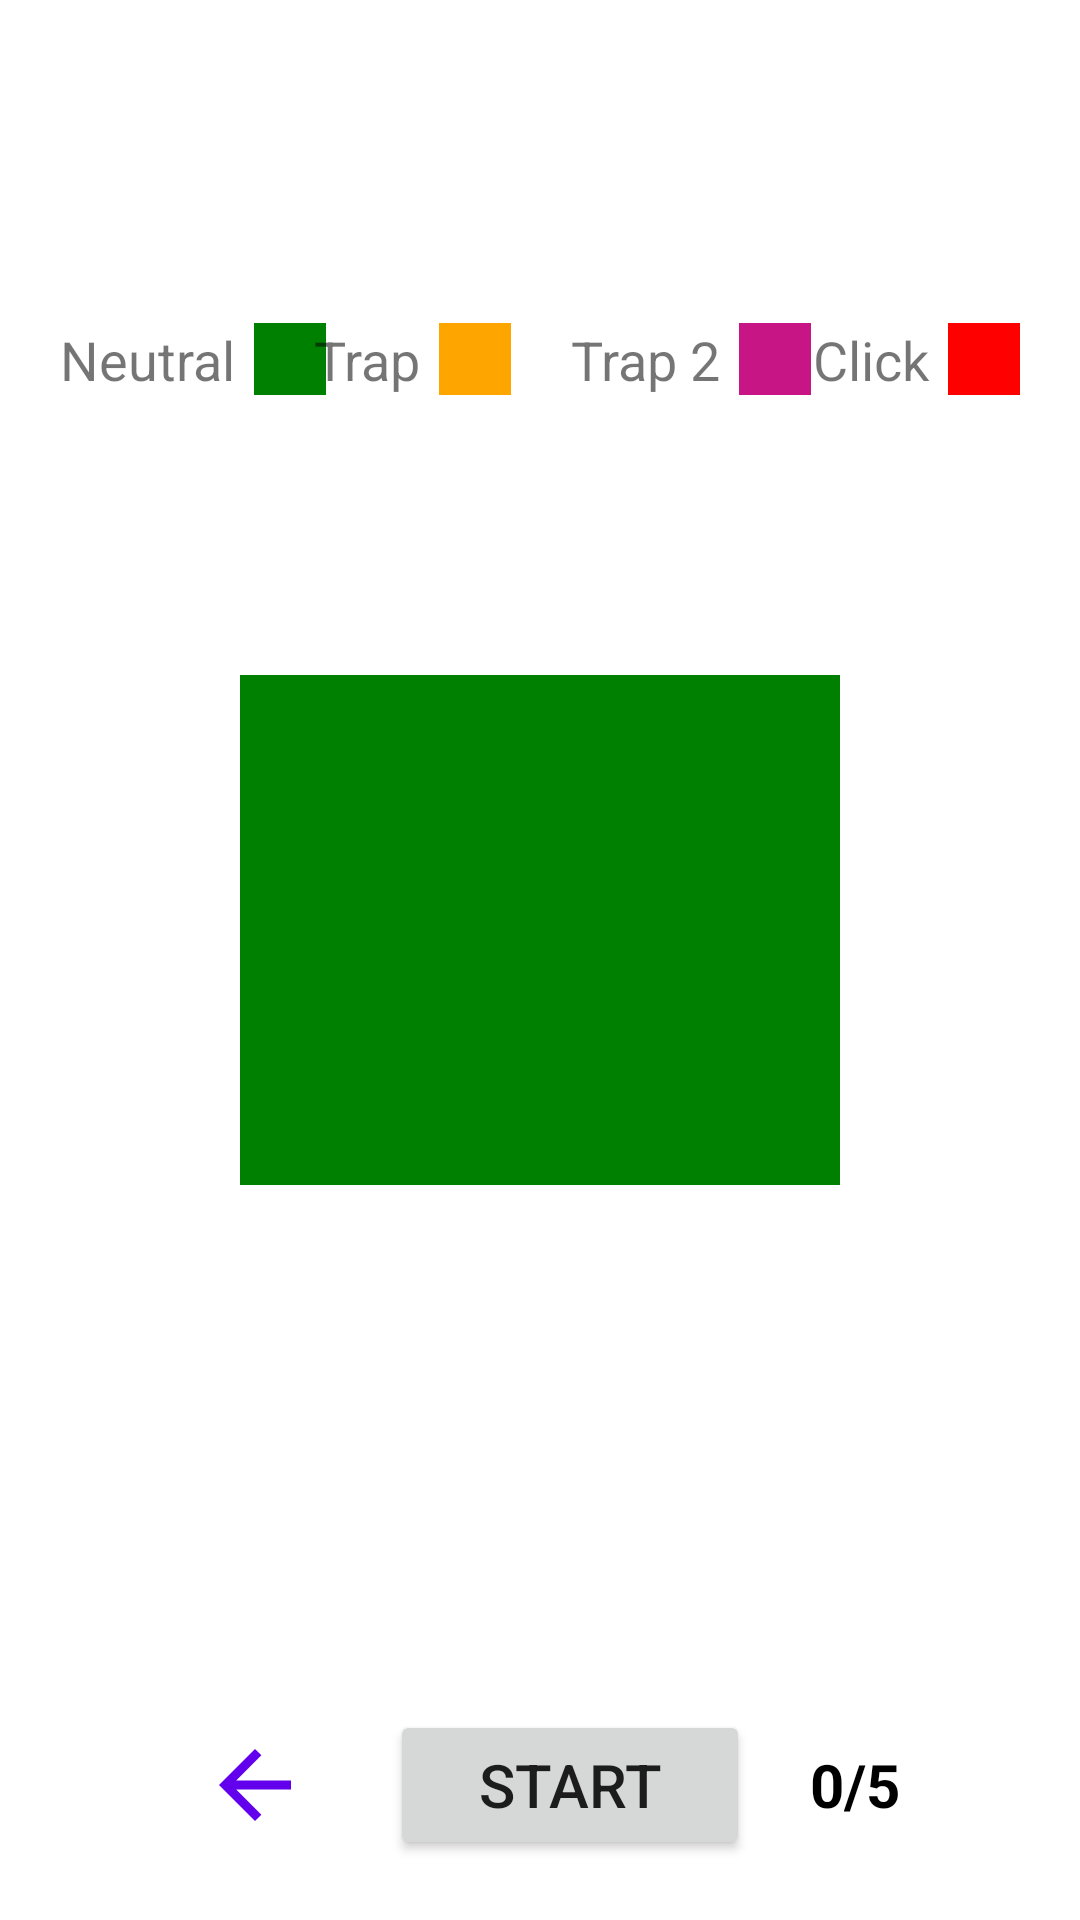

Icon click points for this 1080×1920 phone screenshot, format (x=x, y=y):
BACK: (x=255, y=1785)
